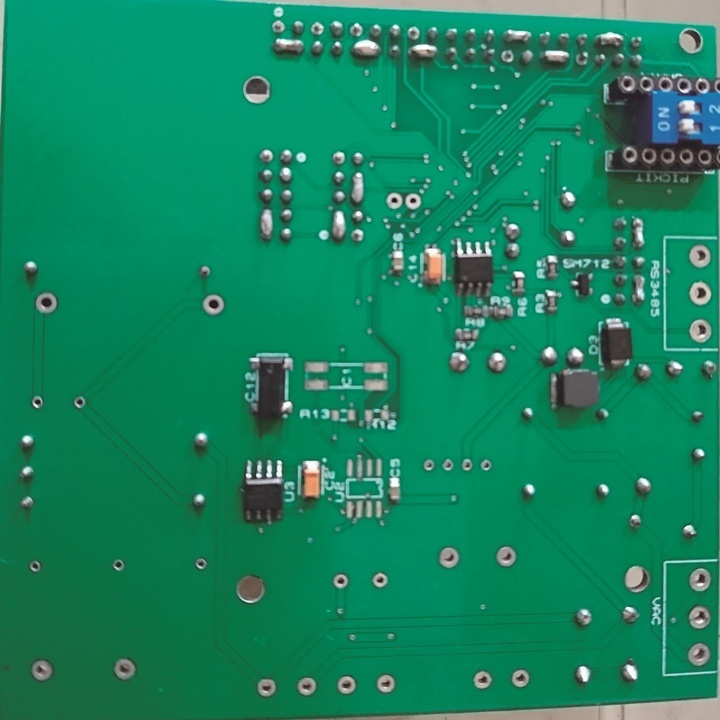F: (685, 603, 712, 632), (111, 655, 137, 683), (435, 544, 461, 572), (685, 641, 711, 669), (687, 566, 712, 594), (688, 318, 713, 346), (201, 292, 227, 318), (29, 658, 55, 684), (34, 290, 59, 317), (494, 545, 519, 572), (688, 278, 711, 306), (688, 243, 712, 269), (294, 673, 318, 698), (254, 677, 279, 700), (374, 672, 396, 696), (470, 668, 493, 690), (509, 666, 530, 690), (336, 675, 357, 696), (384, 192, 403, 212), (404, 192, 422, 211), (330, 573, 349, 591), (371, 571, 388, 590), (350, 226, 366, 246), (347, 21, 363, 39), (574, 49, 589, 68), (479, 455, 493, 475), (331, 149, 347, 166), (18, 494, 35, 510), (420, 458, 436, 473), (310, 20, 324, 37), (258, 149, 273, 164), (110, 558, 125, 573), (270, 18, 284, 34), (406, 25, 420, 41), (501, 49, 515, 65), (198, 264, 212, 280), (27, 558, 41, 574), (193, 557, 207, 573), (73, 394, 86, 411), (29, 395, 44, 409), (460, 458, 473, 473), (441, 458, 453, 473)
P: (273, 35, 304, 58), (350, 38, 383, 59), (257, 206, 274, 243), (539, 48, 572, 67), (330, 207, 347, 243), (593, 30, 625, 49), (501, 26, 533, 45), (350, 169, 367, 204), (631, 272, 647, 309), (408, 41, 439, 60), (631, 216, 647, 251)
